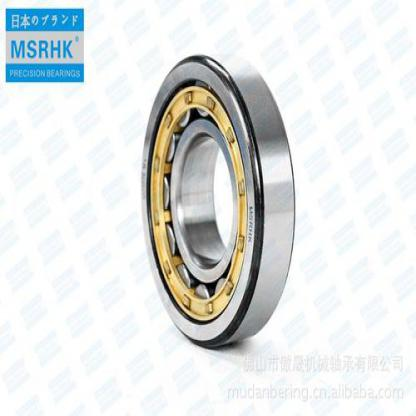FOD: (137, 41, 297, 361)
